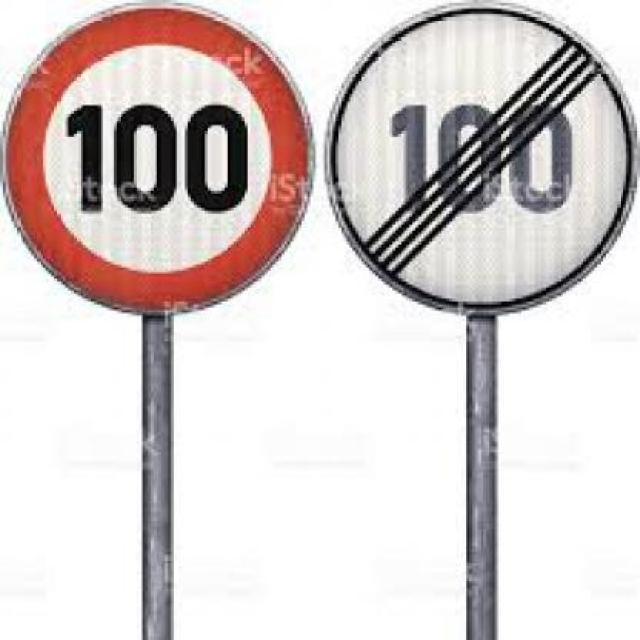forb_speed_over_100: (5, 4, 313, 308)
